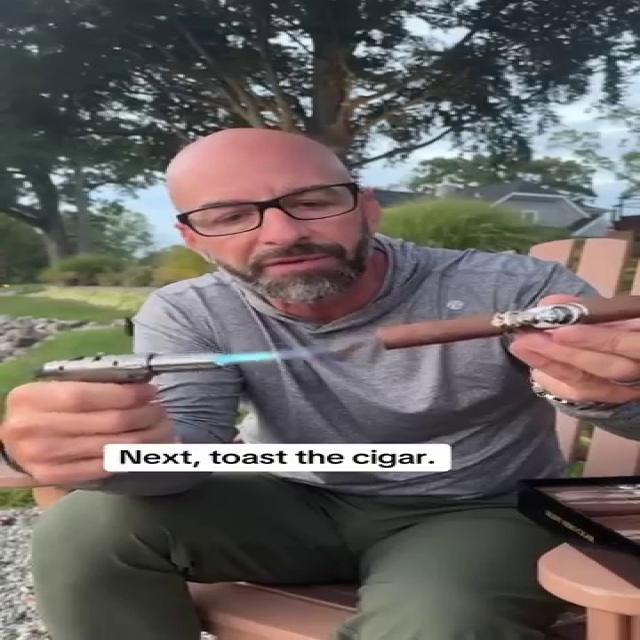Cigarette: (381, 294, 640, 352)
Hand: (500, 296, 640, 408)
Mouth: (259, 252, 343, 270)
